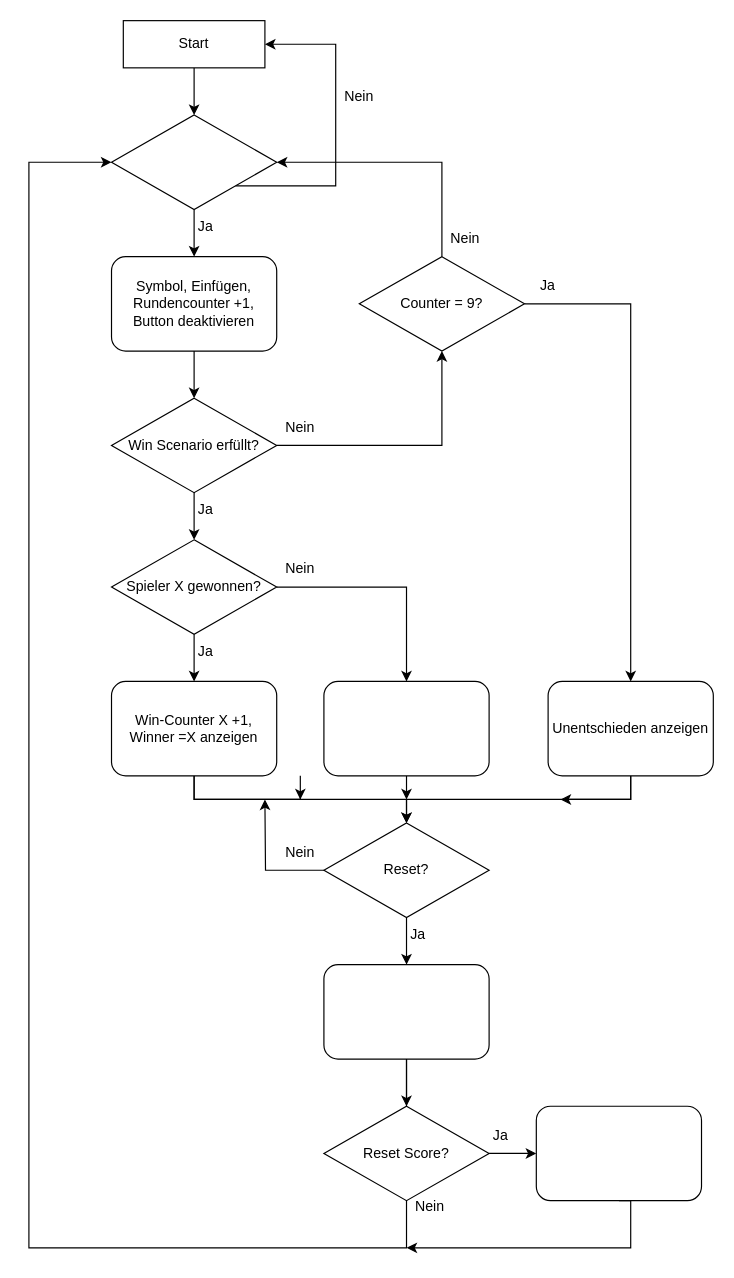
Some shapes in this 734 by 1278 pixel diagram are drawn without their labels. Each missing label, with the centre of its shape:
Spielfeld zurücksetzen: (406,1011)
Spielstand zurücksetzen: (618,1153)
Spielzug ausgeführt?: (193,161)
Win-Counter O +1, Winner =O anzeigen: (406,728)
